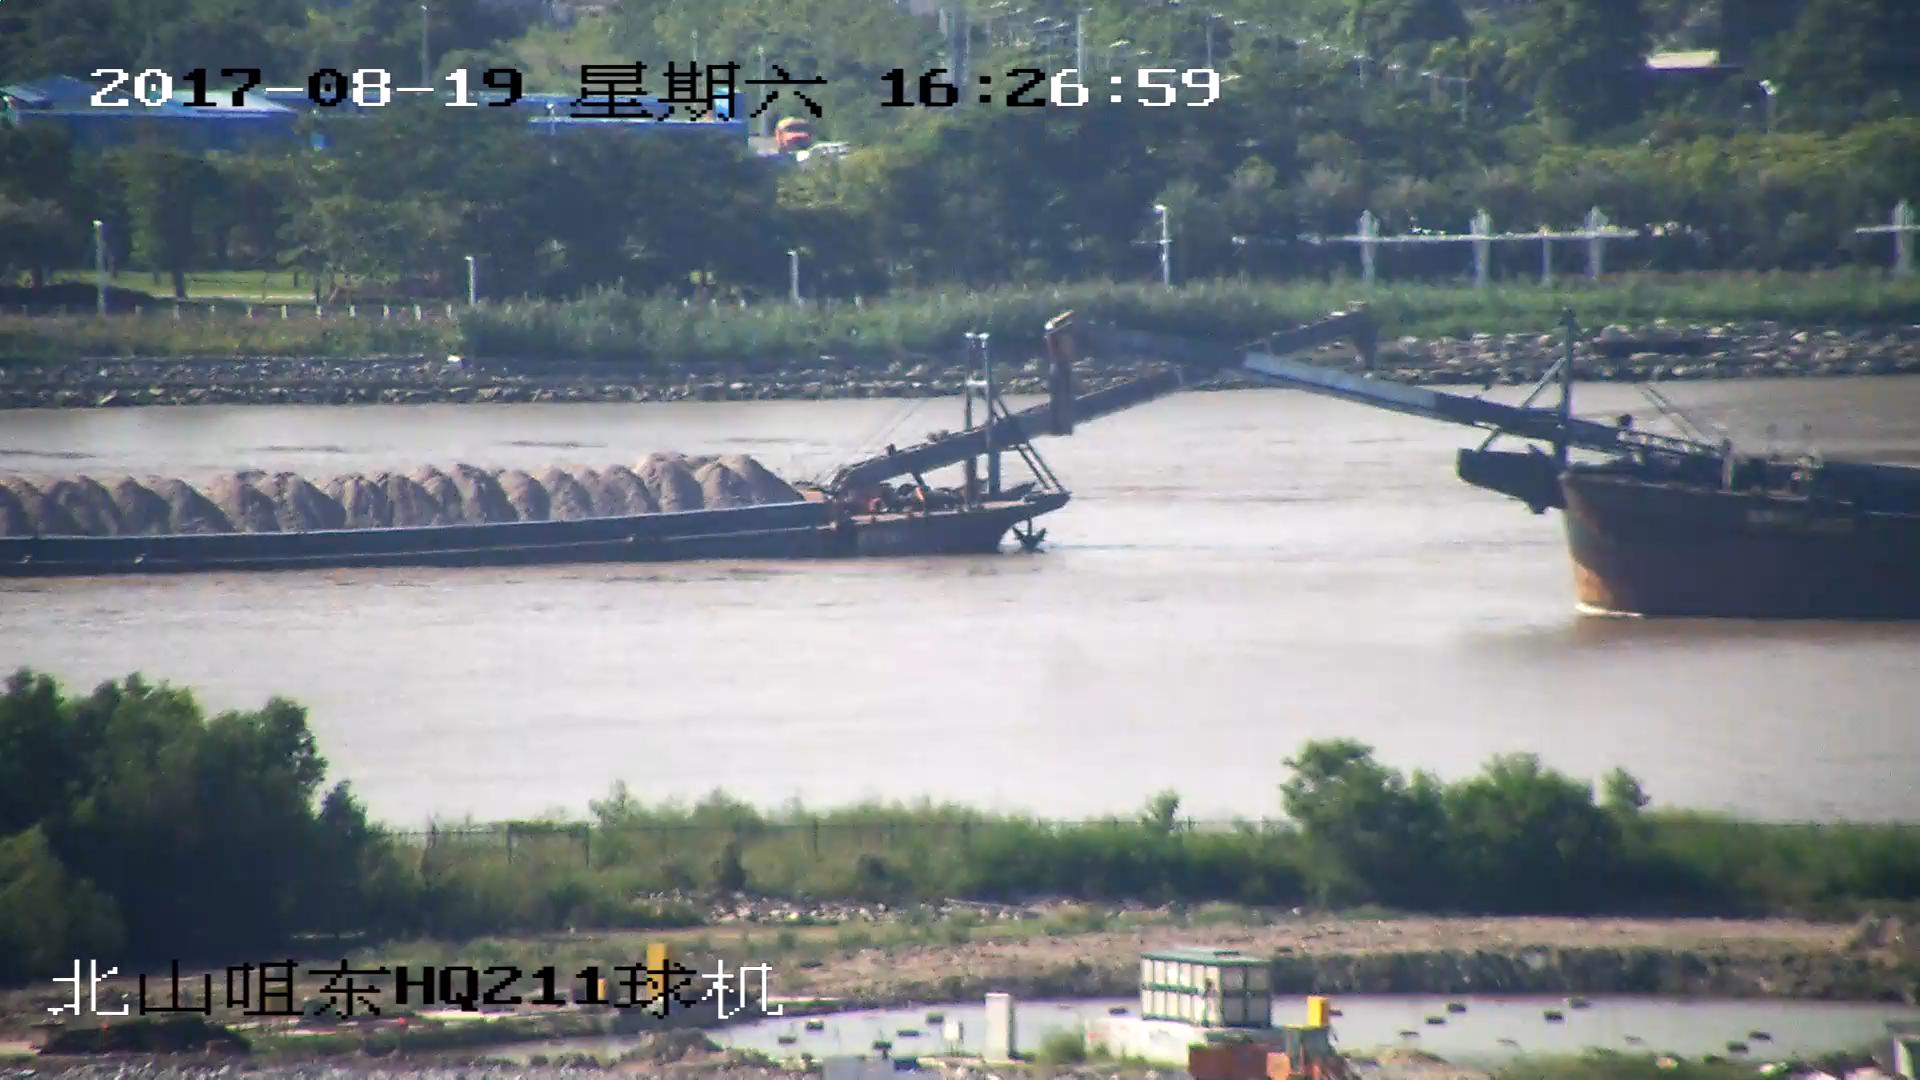bulk cargo carrier: (1052, 320, 1920, 612)
ore carrier: (1, 309, 1359, 581)
